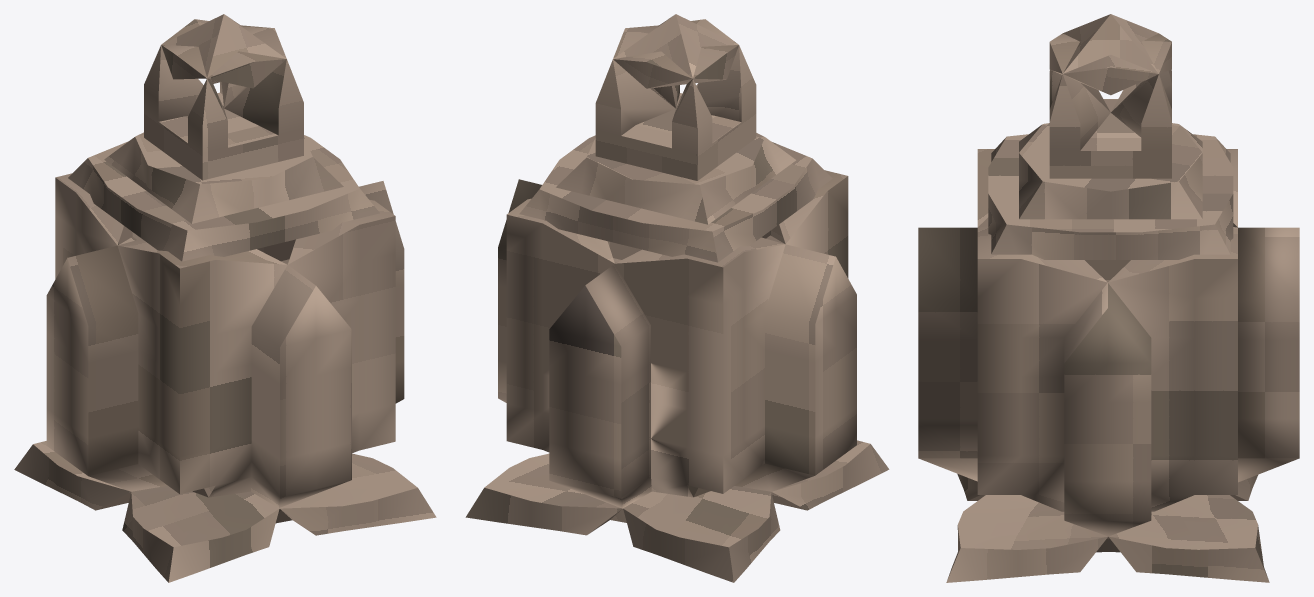
File: urn_closed_corr.obj
3 views of the same model, side by side, from view 1: azimuth 30°, elevation 25°; view 2: azimuth 150°, elevation 25°; view 3: azimuth 270°, elevation 25° (orthographic). The views are drawn at different scales.
Visible parts, largest first — view 1: urn, bcagelid; view 2: urn, bcagelid; view 3: urn, bcagelid.
Boxes of the visible parts, x1,y1,x2,y2 form: urn: [14, 173, 436, 582]; bcagelid: [68, 14, 379, 261]; urn: [465, 170, 889, 582]; bcagelid: [519, 14, 832, 262]; urn: [918, 149, 1299, 582]; bcagelid: [988, 14, 1233, 259].
Size of the model in its own units: 0.6654 by 0.9813 by 0.6654.
